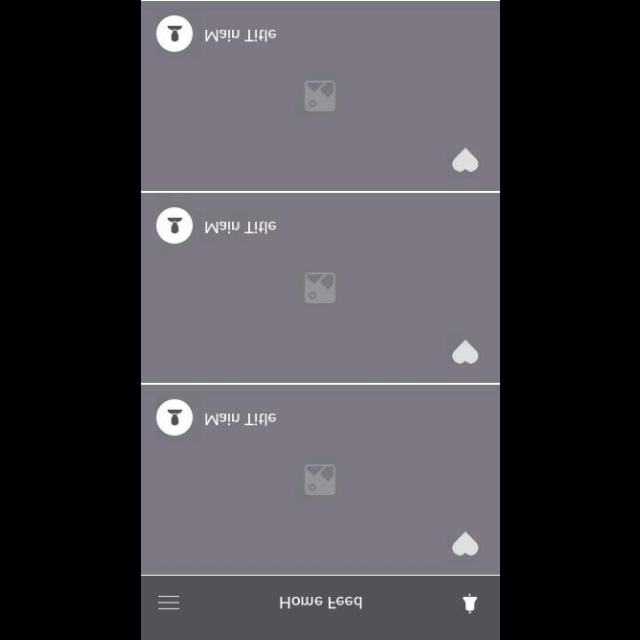icon: (156, 206, 194, 244), (157, 398, 193, 434), (157, 16, 193, 52), (452, 146, 478, 172), (451, 339, 477, 363), (452, 532, 478, 554), (157, 594, 180, 610), (463, 594, 479, 614)
image: (141, 192, 499, 382), (141, 384, 499, 572), (141, 2, 499, 190)
text: (280, 594, 362, 610), (204, 28, 276, 44), (204, 221, 276, 235), (205, 412, 277, 426)
toolbar: (141, 575, 499, 639)
